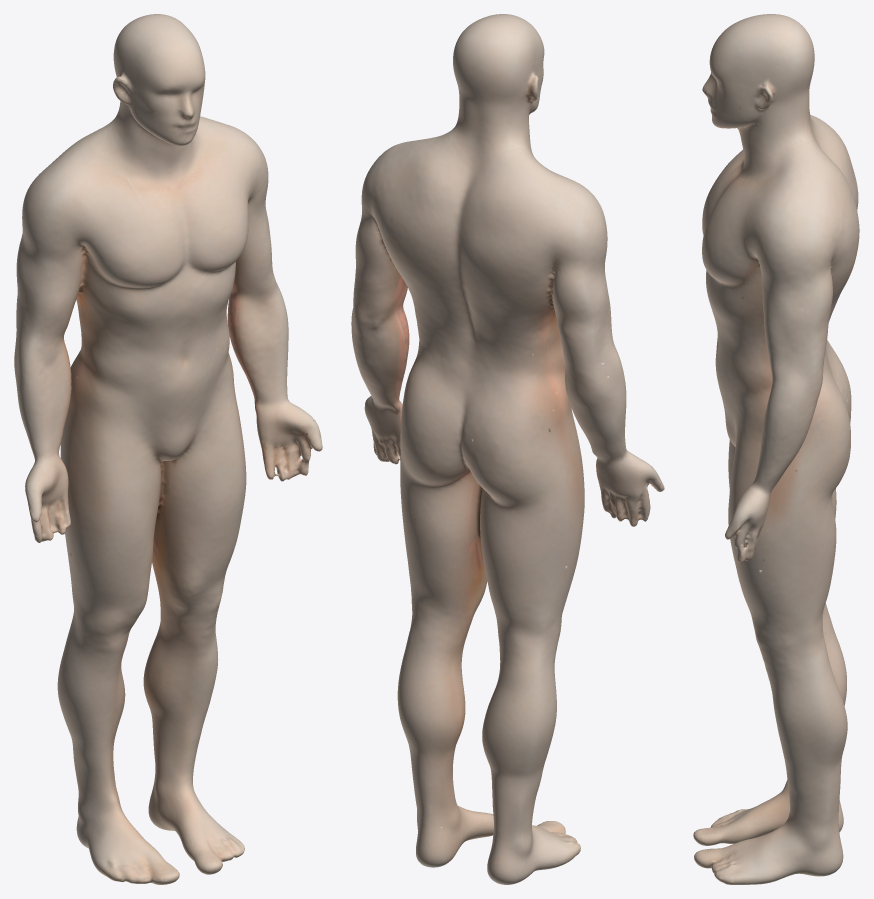
3 views of the same model, side by side, from view 1: azimuth 30°, elevation 25°; view 2: azimuth 150°, elevation 25°; view 3: azimuth 270°, elevation 25° (orthographic).
Size of the model in its own units: 0.7349 by 2 by 0.3599.
1 material, 1 textured.
